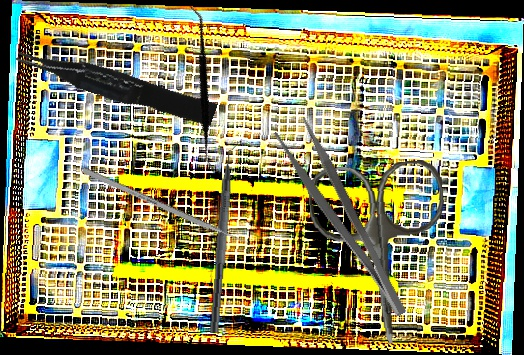Chopper: (209, 137, 246, 335)
Dressing Forceps: (272, 114, 412, 329)
Iris Scissors: (306, 158, 456, 350)
Pusher: (81, 167, 257, 250)
Spatula Surgical: (124, 5, 281, 174)
Tissue Forceps: (14, 34, 218, 135)
